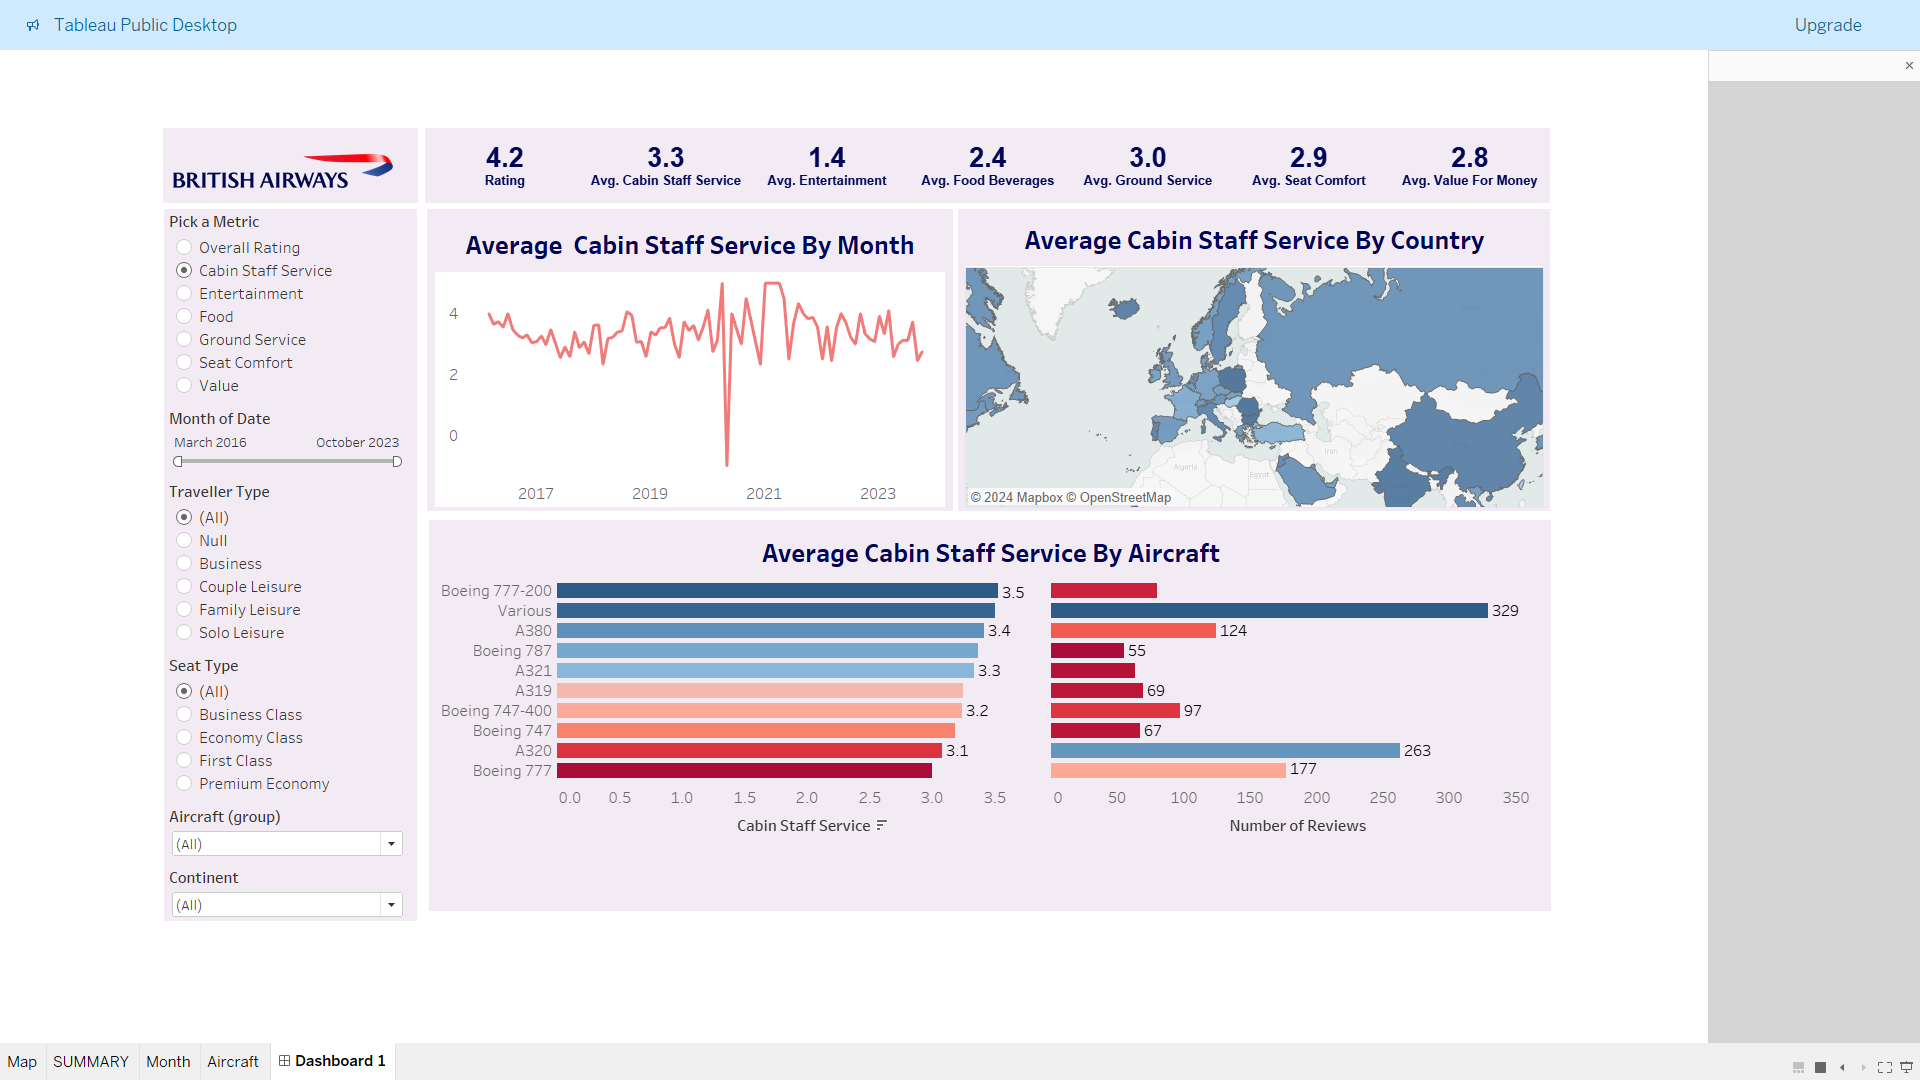

This screenshot's page, from the dashboard's own definition file:
{"tool":"tableau","page":{"name":"Dashboard 1","canvas":[1400,850],"ordinal":0},"visuals":[{"type":"blank","box":[5,3.2,263,82.9]},{"type":"worksheet","title":"SUMMARY","mark":"Automatic","box":[267,3.2,1133,82.9]},{"type":"image","param":"Image/kisspng-british-airways-salzburg-airport-airline-check-in-5ae44ee41b6136.6","box":[7,8.5,243,80.8]},{"type":"parameter","param":"[Parameters].[Parameter 1]","box":[11,85.7,245,197]},{"type":"blank","box":[10,88,253,712]},{"type":"blank","box":[273,88,526,302]},{"type":"blank","box":[804,88,592,302]},{"type":"worksheet","title":"Map","mark":"Multipolygon","box":[811,97,579,290]},{"type":"worksheet","title":"Month","mark":"Automatic","rows":["Calculation_1228075376476176384"],"cols":["date"],"box":[281,102,510,284]},{"type":"filter","title":"Map","param":"[federated.11w8srq1hapd9a16zyrw60xeq5wv].[tmn:date:qk]","box":[11,282.7,245,73]},{"type":"filter","title":"Map","param":"[federated.11w8srq1hapd9a16zyrw60xeq5wv].[none:traveller_type:nk]","box":[11,355.7,245,174]},{"type":"blank","box":[275,399,1122,391]},{"type":"worksheet","title":"Aircraft","mark":"Automatic","cols":["Calculation_1228075376476176384","ba_reviews.csv_7F308C2C09A4468E8A3DF4DBD58DF157"],"box":[283,410,1108,377]},{"type":"filter","title":"Map","param":"[federated.11w8srq1hapd9a16zyrw60xeq5wv].[none:seat_type:nk]","box":[11,529.7,245,151]},{"type":"filter","title":"Map","param":"[federated.11w8srq1hapd9a16zyrw60xeq5wv].[Aircraft (group)]","box":[11,680.7,245,61]},{"type":"filter","title":"Map","param":"[federated.11w8srq1hapd9a16zyrw60xeq5wv].[none:Continent:nk]","box":[11,741.7,245,61]}]}

Visuals, with their boxes on the page's 1400x850 design canvas (x1, y1, x2, y2). These are canvas units, not pixel positions in the 1920x1080 screenshot, which may show the page scaled, cropped or inside an application window:
blank: l=5, t=3, r=268, b=86
"SUMMARY" worksheet: l=267, t=3, r=1400, b=86
image: l=7, t=8, r=250, b=89
parameter: l=11, t=86, r=256, b=283
blank: l=10, t=88, r=263, b=800
blank: l=273, t=88, r=799, b=390
blank: l=804, t=88, r=1396, b=390
"Map" worksheet (Multipolygon marks): l=811, t=97, r=1390, b=387
"Month" worksheet: l=281, t=102, r=791, b=386
"Map" filter: l=11, t=283, r=256, b=356
"Map" filter: l=11, t=356, r=256, b=530
blank: l=275, t=399, r=1397, b=790
"Aircraft" worksheet: l=283, t=410, r=1391, b=787
"Map" filter: l=11, t=530, r=256, b=681
"Map" filter: l=11, t=681, r=256, b=742
"Map" filter: l=11, t=742, r=256, b=803
